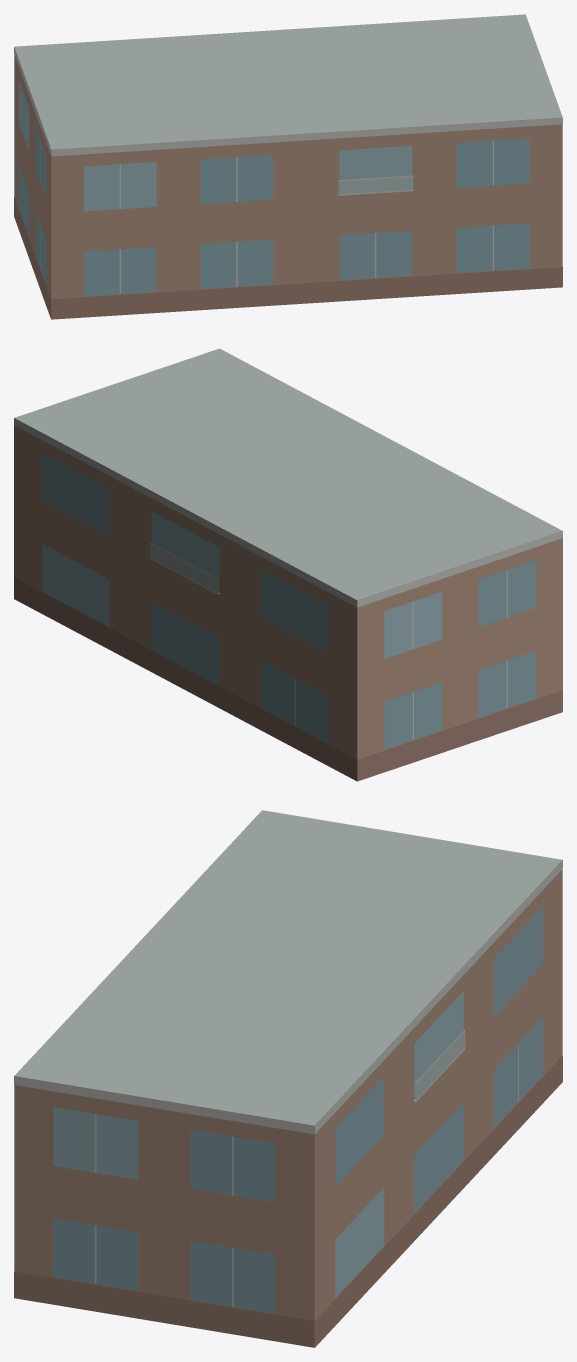
Rendered from survey-upis-32927485.glb.
3 renders of one model, top to bottom at view 1: azimuth 30°, elevation 25°; view 2: azimuth 150°, elevation 25°; view 3: azimuth 270°, elevation 25°, orthographic. The views are drawn at different scales.
Parts seen in each view (by area): view 1: survey-upis-32927485.tmp; view 2: survey-upis-32927485.tmp; view 3: survey-upis-32927485.tmp.
Boxes of the visible parts, bbox=[...] form: survey-upis-32927485.tmp: bbox=[14, 14, 562, 319]; survey-upis-32927485.tmp: bbox=[14, 348, 562, 781]; survey-upis-32927485.tmp: bbox=[14, 810, 562, 1347].
Size of the model in its own units: 18.59 by 6.1 by 13.67.
